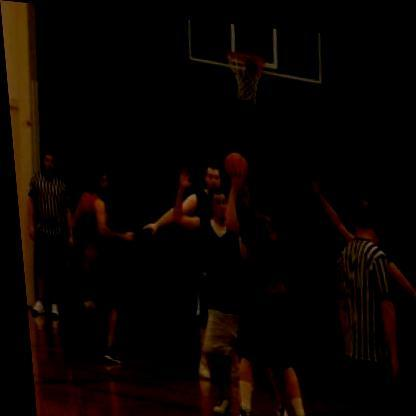basketball: (215, 144, 250, 179)
